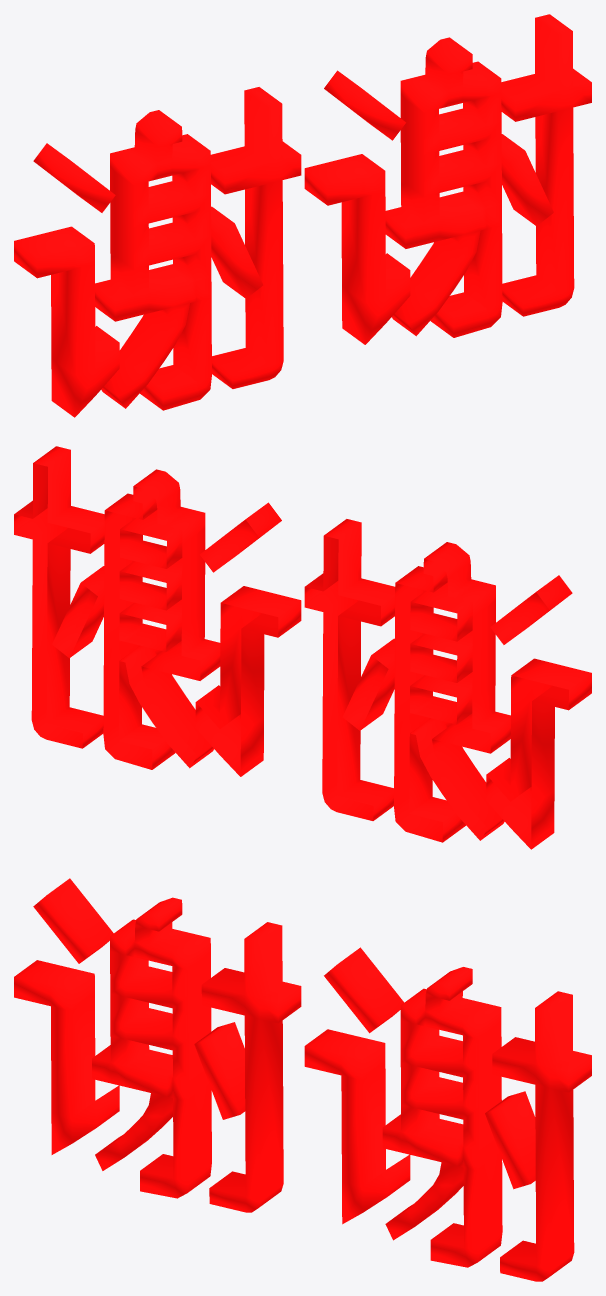
Rendered from ThankYou.glb.
The picture shows the model from 3 angles, top to bottom: view 1: azimuth 30°, elevation 25°; view 2: azimuth 150°, elevation 25°; view 3: azimuth 330°, elevation 25°; orthographic projection.
Parts seen in each view (by area): view 1: Thankyou; view 2: Thankyou; view 3: Thankyou.
Part boxes in pixels (x1,y1,x2,y2): Thankyou: (14,14,591,417); Thankyou: (14,446,591,849); Thankyou: (14,878,591,1281).
Bounding box in the file's own units: 0.9201 × 0.4452 × 0.0664.
Materials: 1 (1 with a texture image).
